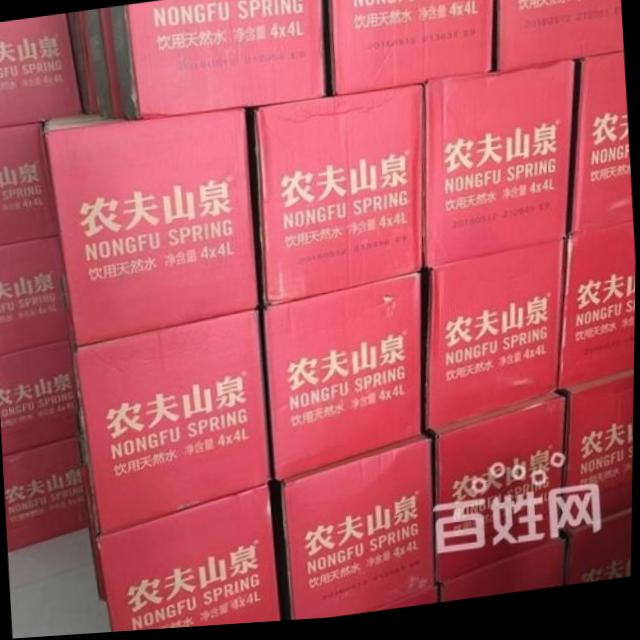box: (44, 109, 260, 349), (71, 311, 275, 536), (246, 90, 424, 311), (261, 275, 425, 486), (423, 66, 578, 275), (273, 440, 437, 625), (90, 487, 284, 634), (424, 246, 568, 440), (426, 398, 568, 589), (109, 0, 328, 120), (322, 0, 495, 101), (559, 230, 636, 398), (559, 377, 635, 543), (568, 60, 632, 246), (494, 0, 624, 78), (3, 437, 90, 552), (0, 14, 84, 127), (0, 340, 81, 456), (439, 543, 569, 608), (0, 236, 70, 354), (0, 121, 60, 245), (565, 514, 634, 592), (80, 8, 124, 120), (65, 12, 97, 114), (374, 589, 441, 616)
